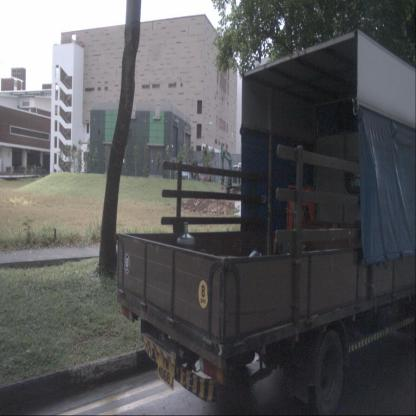vehicle-truck: (115, 29, 415, 415)
